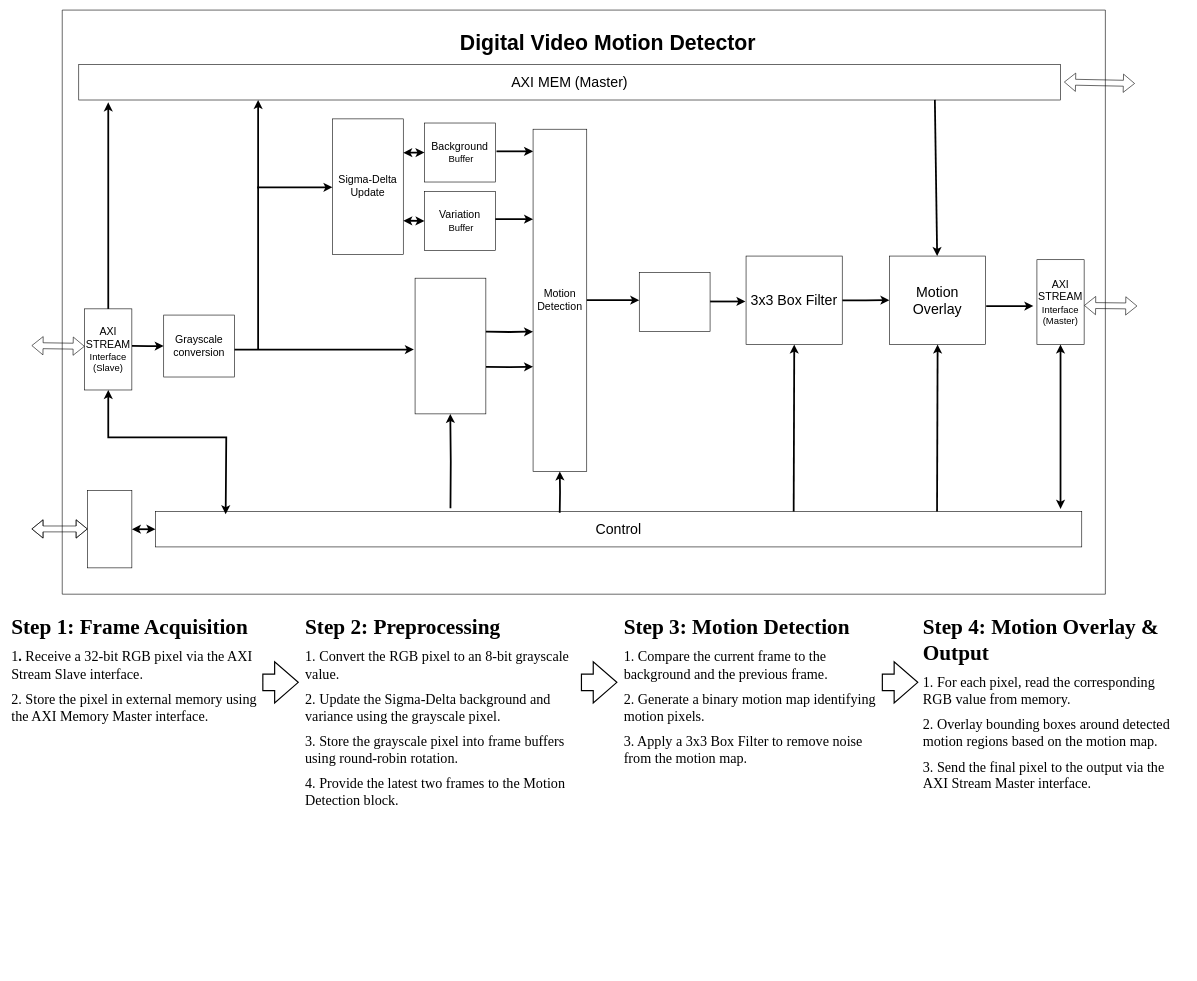
Some shapes in this 1197 by 981 pixel diagram are drawn without their labels. The centre of each missing label's shape, as x and y in pixels:
"AXI LITE Interface (Slave)" belongs at point 109,529.
"Frame Buffers" belongs at point 450,346.
"Motion Map Buffer" belongs at point 674,302.
